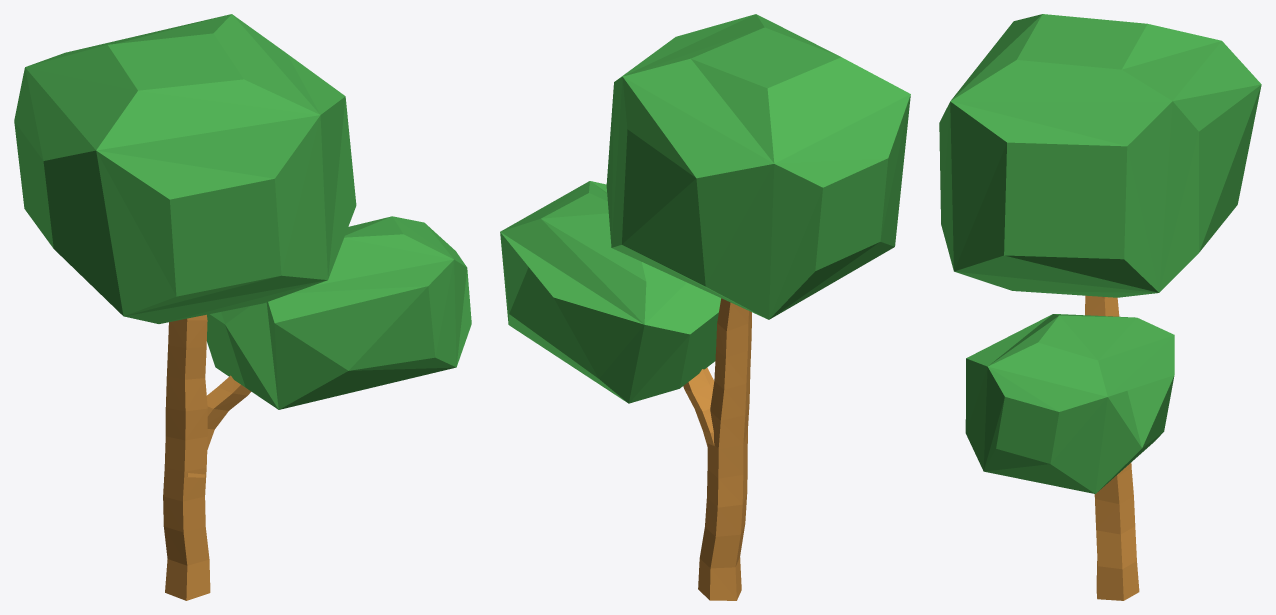
Rendered from tree_01_mesh1114869579.glb.
3 renders of one model, left to right at view 1: azimuth 30°, elevation 25°; view 2: azimuth 150°, elevation 25°; view 3: azimuth 270°, elevation 25°, orthographic. The views are drawn at different scales.
Visible parts, largest first — view 1: part_2_mesh1114869579_1, part_1_mesh1114869579; view 2: part_2_mesh1114869579_1, part_1_mesh1114869579; view 3: part_2_mesh1114869579_1, part_1_mesh1114869579.
Part boxes in pixels (box(x1,y1,x2,y2)): part_2_mesh1114869579_1: box(14, 14, 471, 409); part_1_mesh1114869579: box(163, 314, 251, 600); part_2_mesh1114869579_1: box(500, 14, 910, 403); part_1_mesh1114869579: box(683, 298, 751, 600); part_2_mesh1114869579_1: box(939, 14, 1261, 493); part_1_mesh1114869579: box(1085, 295, 1139, 600).
Bounding box in the file's own units: 0.2346 × 0.31 × 0.1676.
